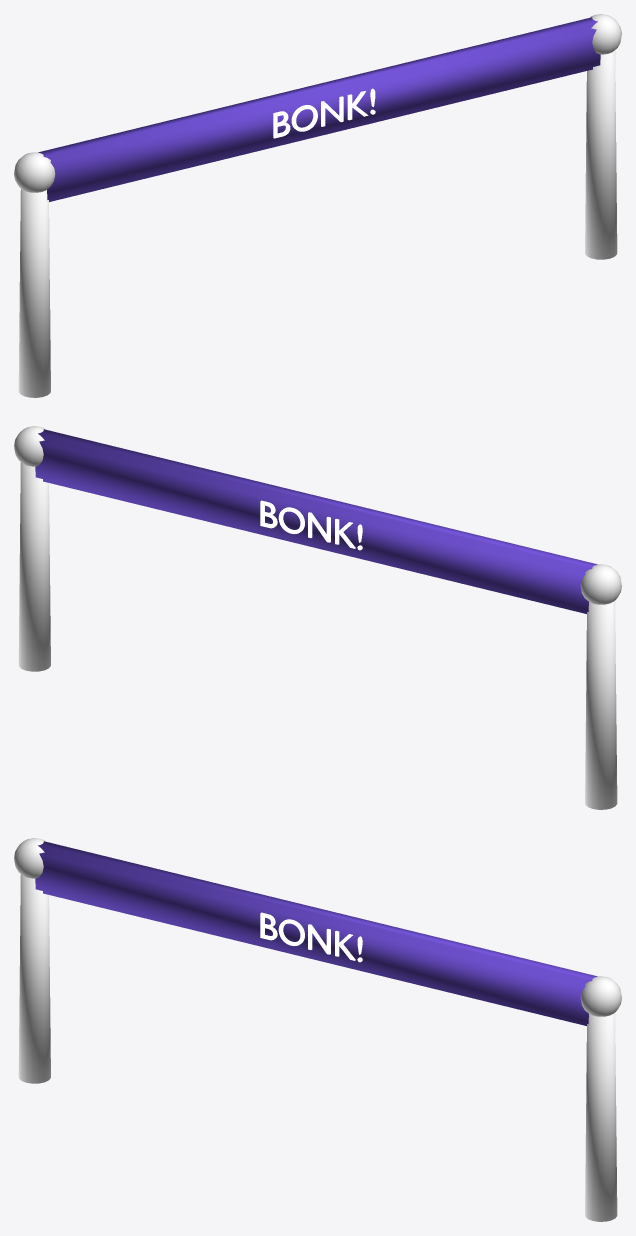
File: prop_start_arch.glb
3 views of the same model, one above another, from view 1: azimuth 30°, elevation 25°; view 2: azimuth 150°, elevation 25°; view 3: azimuth 330°, elevation 25° (orthographic).
Parts seen in each view (by area): view 1: Start_Banner, Start_Posts, Start_Text0; view 2: Start_Banner, Start_Posts, Start_Text3; view 3: Start_Banner, Start_Posts, Start_Text0.
Part boxes in pixels (x1,y1,x2,y2): Start_Banner: (38, 17, 600, 201); Start_Posts: (14, 14, 621, 397); Start_Text0: (273, 88, 375, 138); Start_Banner: (35, 429, 597, 613); Start_Posts: (14, 426, 621, 809); Start_Text3: (260, 500, 362, 550); Start_Banner: (35, 841, 597, 1025); Start_Posts: (14, 838, 621, 1221); Start_Text0: (260, 912, 362, 962).
Size of the model in its own units: 14.9 by 5.6 by 0.9.
